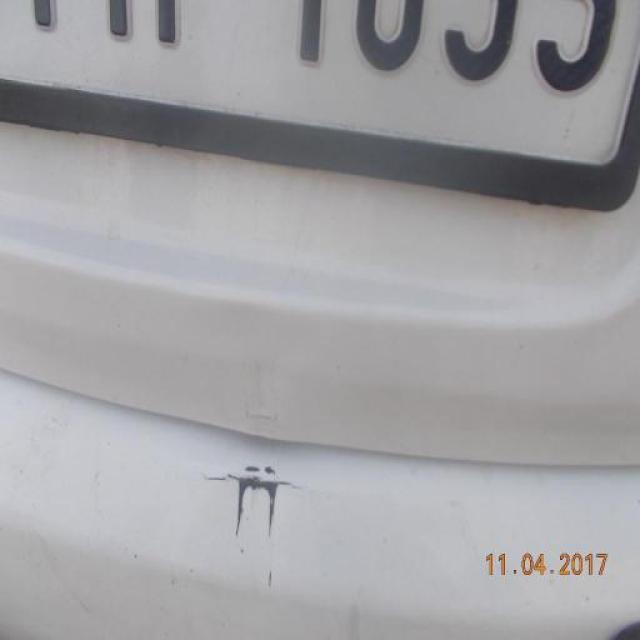scratch: (204, 462, 301, 541)
